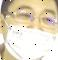with_mask: (2, 1, 58, 60)
